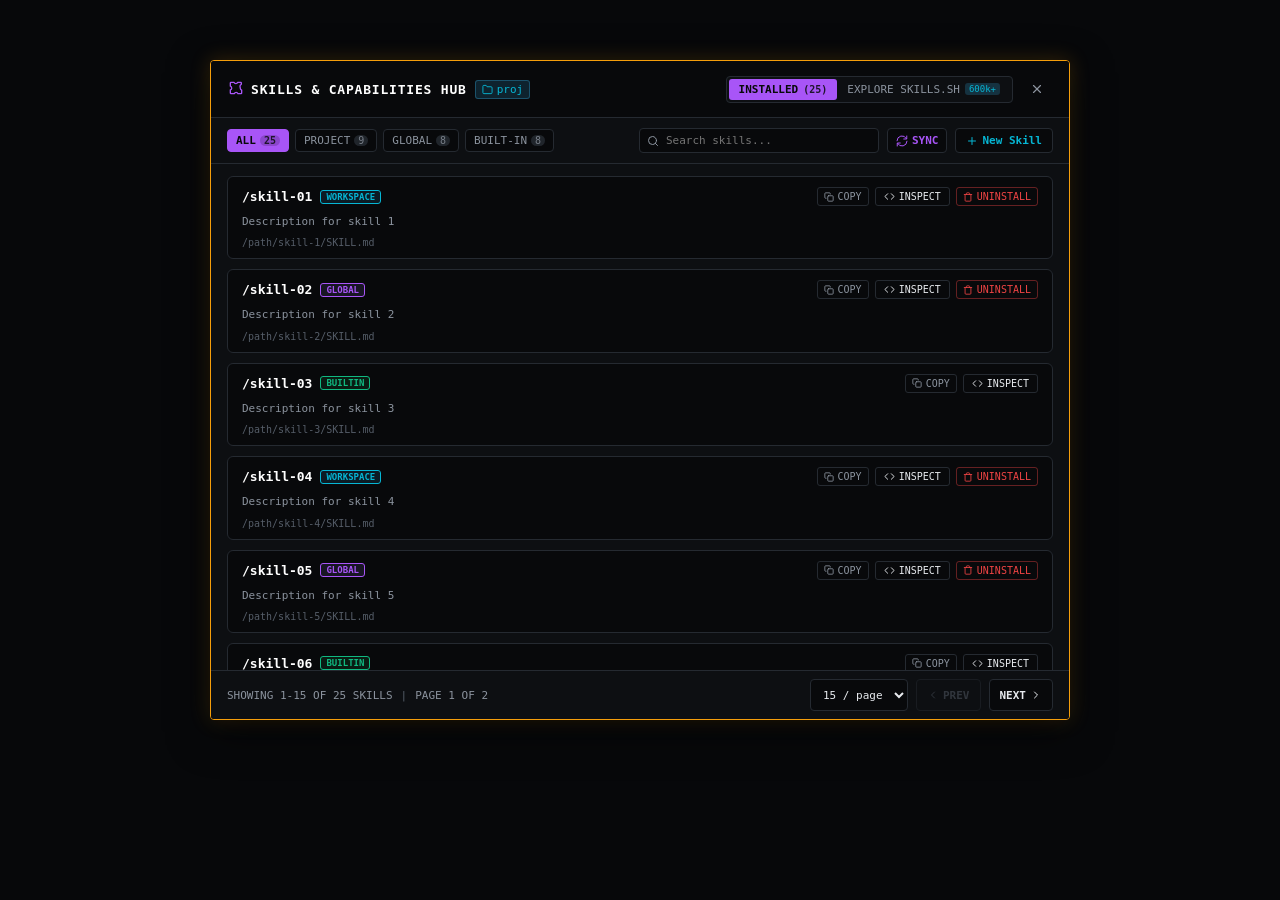
Test: SkillsManagementModal › resets page to 1 when search query or scope filter changes
Expected: the text "/skill-01" is shown, [242,189,312,204]
Select "10 / page" in the dropdown named "Items per page" at (859, 695), box [810,679,908,711]
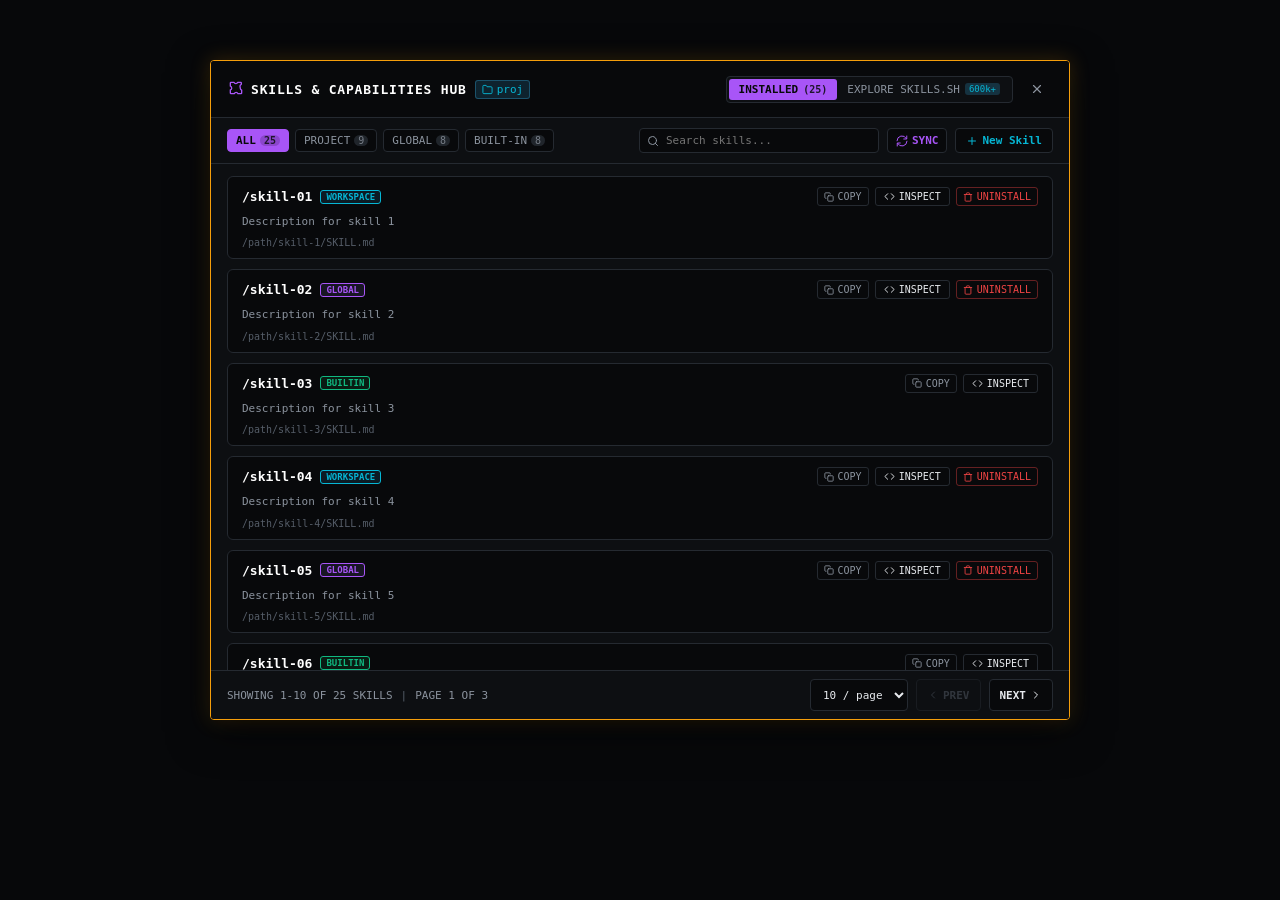
Click the button "NEXT" at (1021, 695), box [988,679,1053,711]
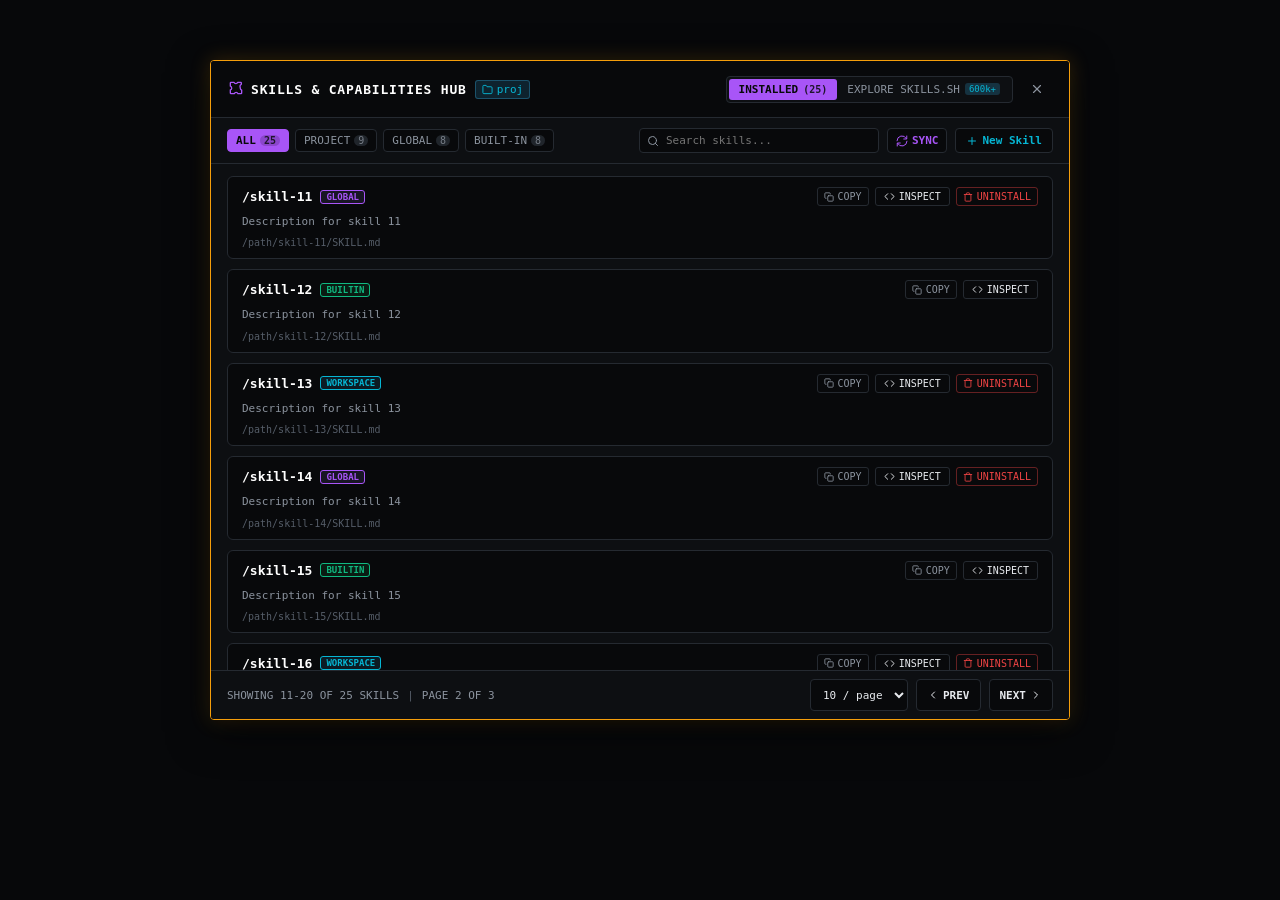
Now the text "PAGE 2 OF 3" is shown, box [422,688,495,702]
// Change search query
Type "skill" into the field with placeholder "Search skills..." at (759, 140), box [639,128,879,153]
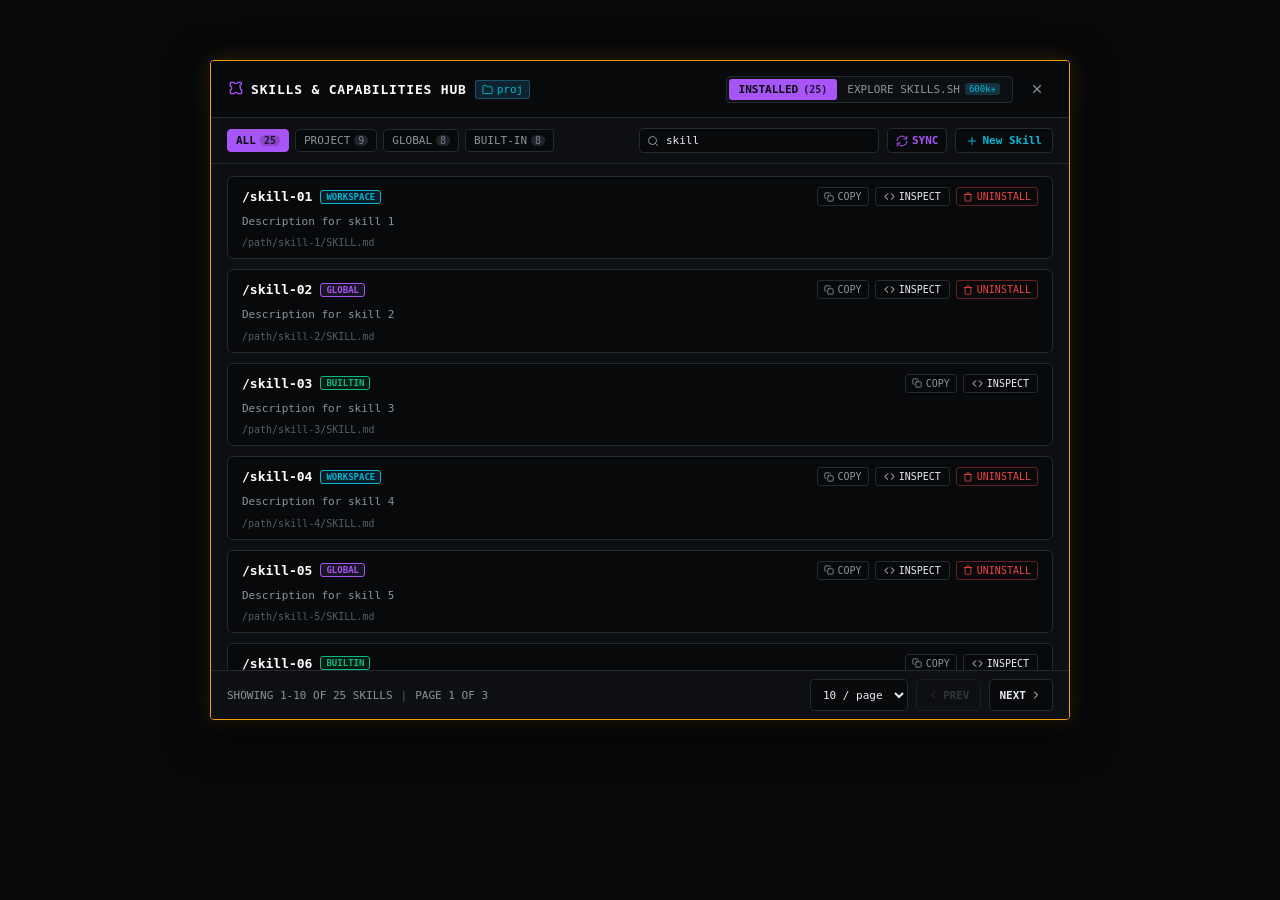
Now the text "PAGE 1 OF 3" is shown, box [415,688,488,702]
// Move to page 2 again
Click the button "NEXT" at (1021, 695), box [988,679,1053,711]
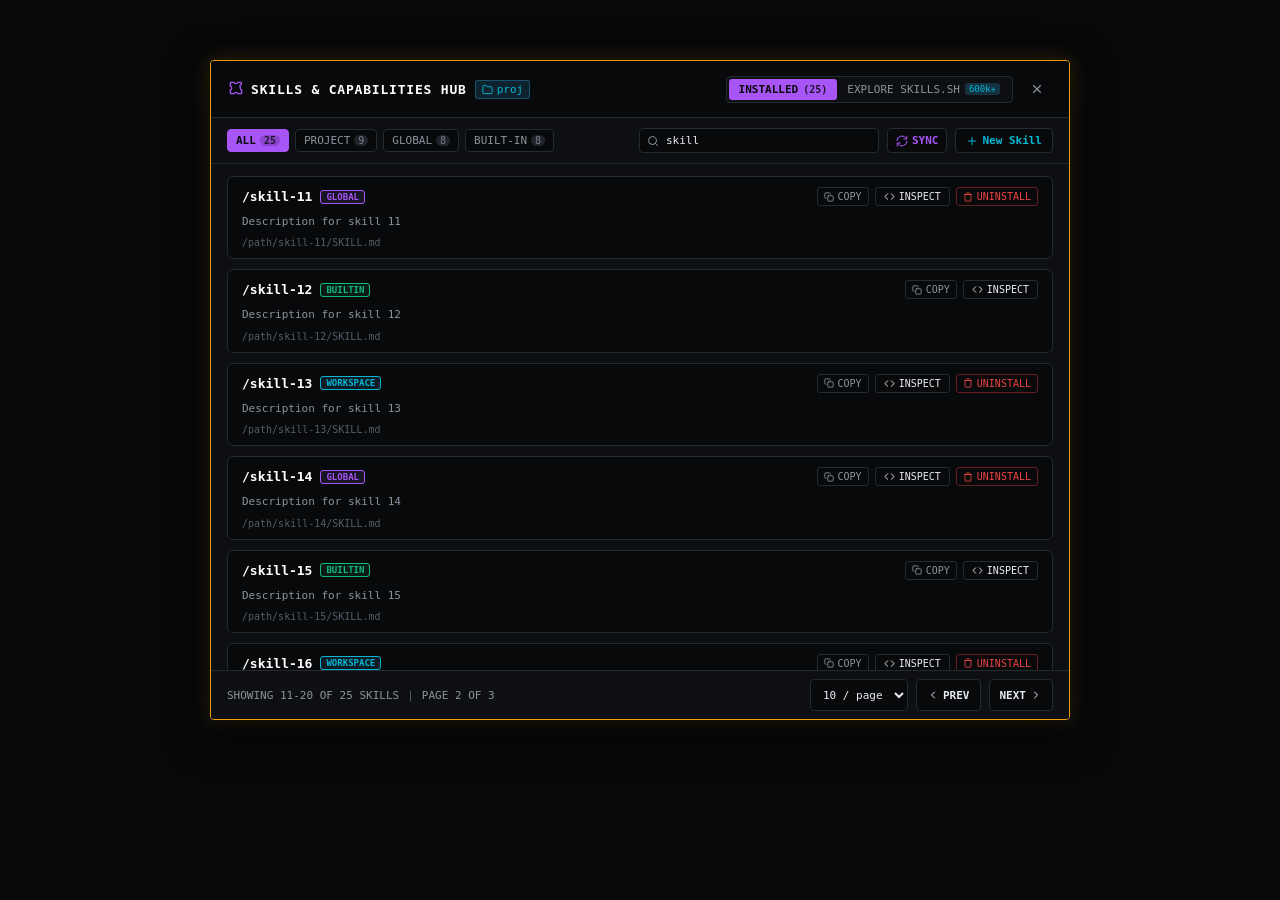
Now the text "PAGE 2 OF 3" is shown, box [422,688,495,702]
// Click scope filter pill
Click the button "PROJECT 9" at (336, 140), box [295,129,377,152]
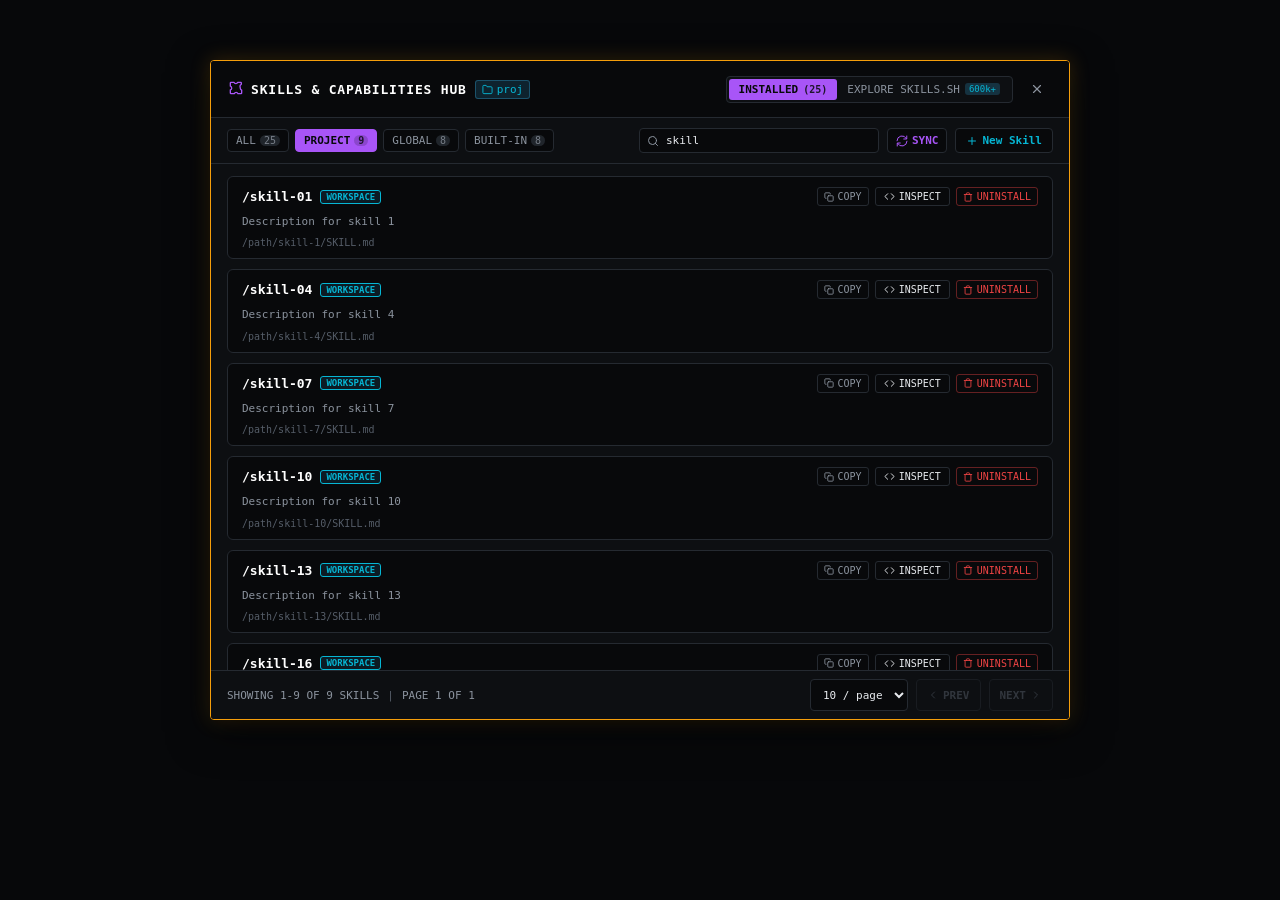
Now the text "PAGE 1 OF 1" is shown, box [402,688,475,702]
